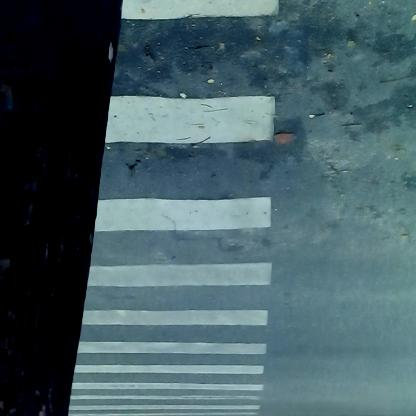crosswalk: (77, 2, 280, 414)
